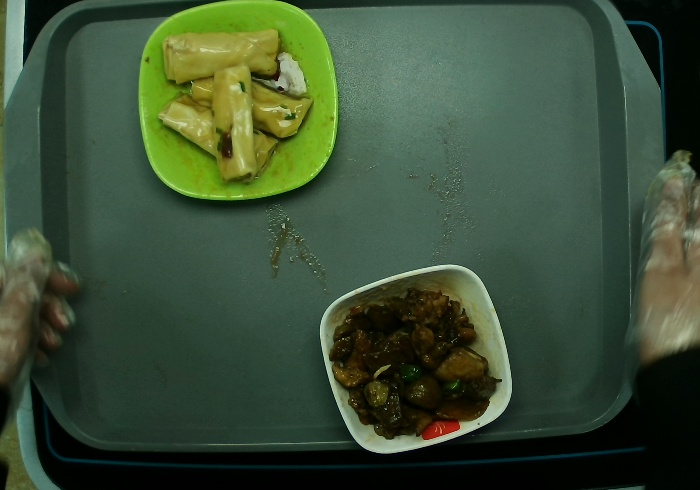SHKJ-Bai_Se_Xiao_Fang_Die: (317, 263, 513, 455)
SHKJ-Lv_Se_Cai_Die: (136, 1, 340, 201)
